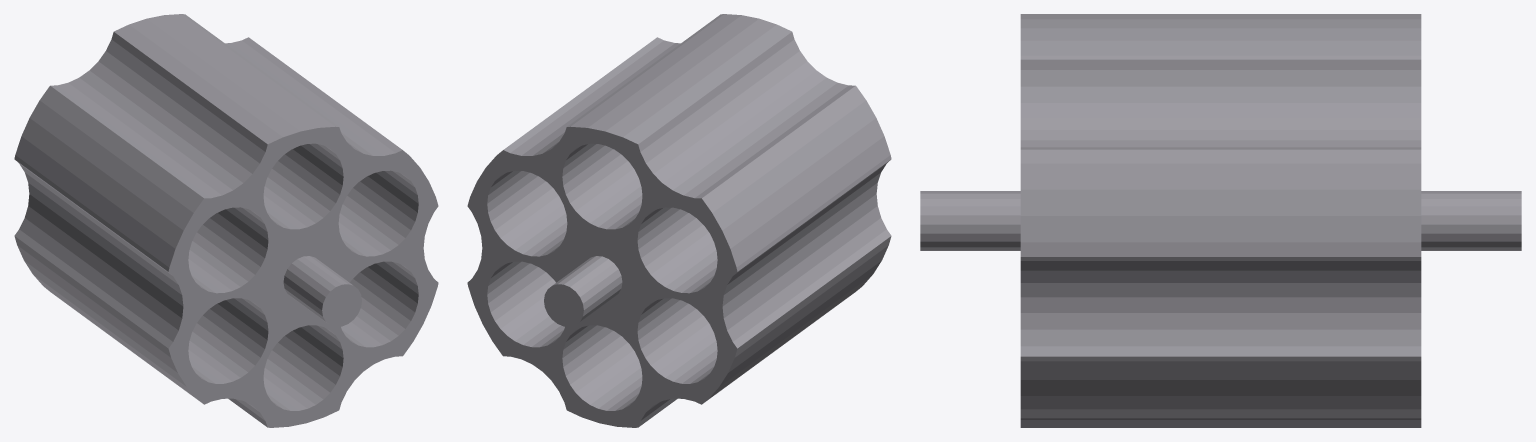
The model's file is revolver_cylinder.glb.
The picture shows the model from 3 angles, left to right: view 1: azimuth 30°, elevation 25°; view 2: azimuth 150°, elevation 25°; view 3: azimuth 270°, elevation 25°; orthographic projection. The views are drawn at different scales.
Visible parts, largest first — view 1: Revolver Cylinder; view 2: Revolver Cylinder; view 3: Revolver Cylinder.
Part boxes in pixels (x1=…): Revolver Cylinder: x1=14, y1=14, x2=438, y2=427; Revolver Cylinder: x1=467, y1=14, x2=891, y2=427; Revolver Cylinder: x1=920, y1=14, x2=1521, y2=427.
Size of the model in its own units: 2.02 by 2.1 by 3.
Materials: 1 (1 with a texture image).
